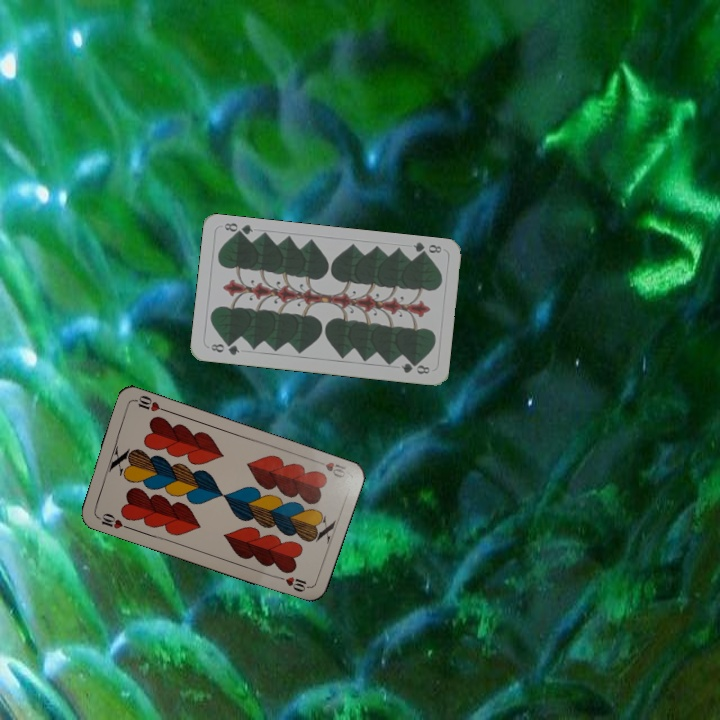G8: (409, 238, 444, 259), (207, 339, 242, 358)
H10: (311, 456, 349, 481), (92, 509, 132, 532)
